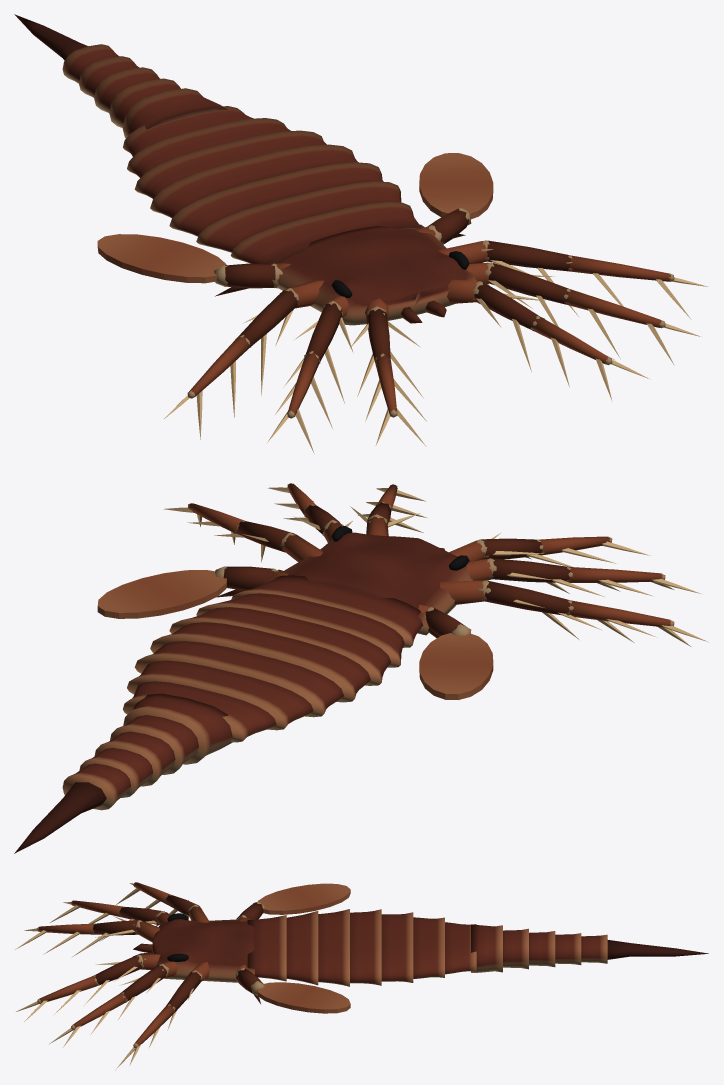
The model's file is PentecopterusDecorahensis.fbx.
3 renders of one model, top to bottom at view 1: azimuth 30°, elevation 25°; view 2: azimuth 150°, elevation 25°; view 3: azimuth 270°, elevation 25°, orthographic. The views are drawn at different scales.
Parts seen in each view (by area): view 1: PentecopterusDecorahensis; view 2: PentecopterusDecorahensis; view 3: PentecopterusDecorahensis.
Part boxes in pixels (bbox=[...]): PentecopterusDecorahensis: bbox=[14, 14, 708, 453]; PentecopterusDecorahensis: bbox=[14, 483, 708, 853]; PentecopterusDecorahensis: bbox=[15, 882, 708, 1070].
Bounding box in the file's own units: 1.53 × 0.2214 × 2.45.
